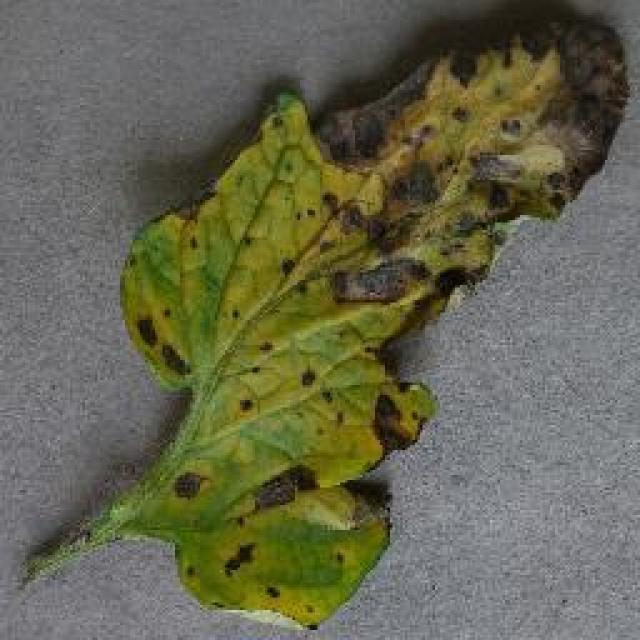Tomato Early blight leaf: (60, 4, 605, 616)
